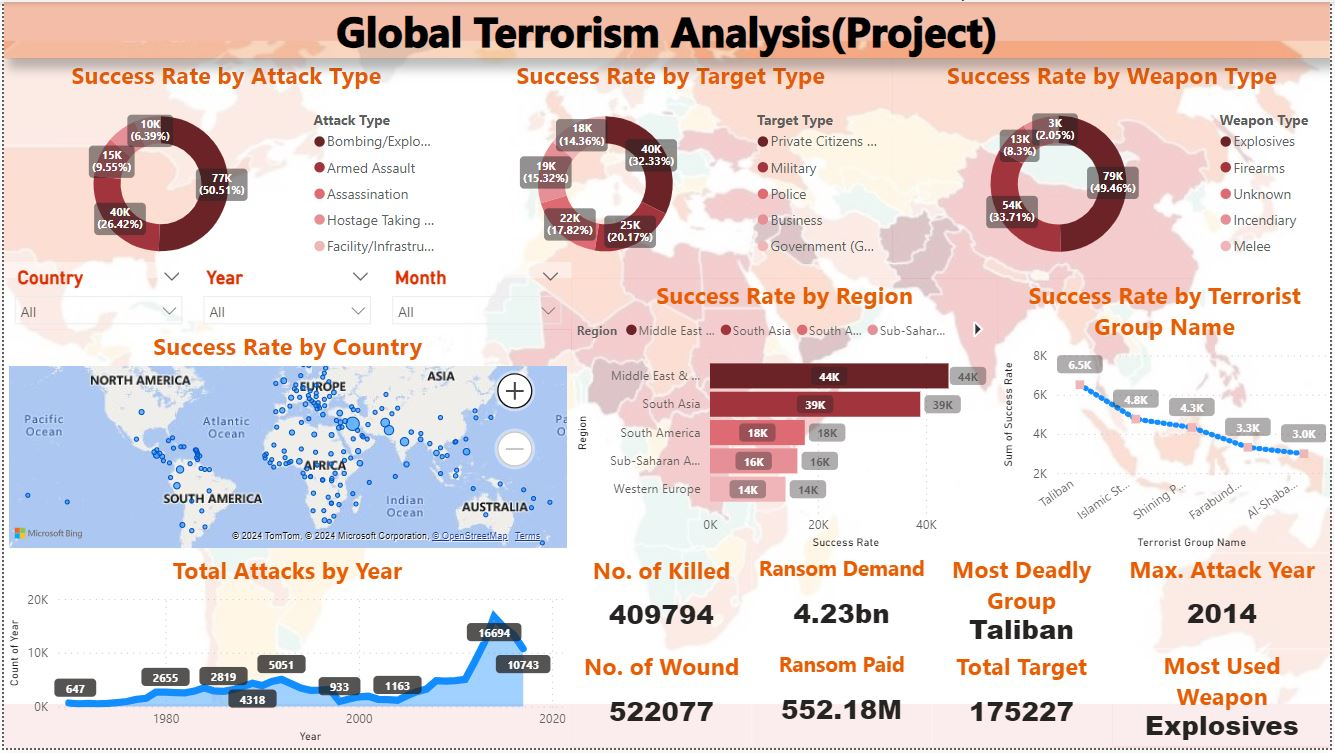

This screenshot's page, from the dashboard's own definition file:
{"tool":"powerbi","page":{"name":"Page 1","canvas":[1280,720],"ordinal":0},"visuals":[{"type":"donutChart","fields":{"Category":["Final Global Terrorism Data.Attack Type"],"Y":["Sum(Final Global Terrorism Data.Success Rate)"]},"box":[0,54.3,429.3,212.3],"z":0},{"type":"donutChart","fields":{"Y":["Sum(Final Global Terrorism Data.Success Rate)"],"Category":["Final Global Terrorism Data.Target Type"]},"box":[429.3,54.3,428.1,212.3],"z":1000},{"type":"donutChart","fields":{"Y":["Sum(Final Global Terrorism Data.Success Rate)"],"Category":["Final Global Terrorism Data.Weapon Type"]},"box":[857.5,54.3,423.3,212.3],"z":2000},{"type":"map","title":" Success Rate by Country","fields":{"Category":["Final Global Terrorism Data.Country"],"Size":["Sum(Final Global Terrorism Data.Success Rate)"]},"box":[0,316,547.5,215.9],"z":3000},{"type":"barChart","title":"Success Rate by Region","fields":{"Category":["Final Global Terrorism Data.Region"],"Y":["Sum(Final Global Terrorism Data.Success Rate)"],"Series":["Final Global Terrorism Data.Region"]},"box":[547,266,411.3,266],"z":4000},{"type":"lineChart","title":"Success Rate by Terrorist Group Name","fields":{"Category":["Final Global Terrorism Data.Terrorist Group Name"],"Y":["Sum(Final Global Terrorism Data.Success Rate)"]},"box":[958.4,266,322.2,266],"z":5000},{"type":"areaChart","title":"Total Attacks by Year","fields":{"Category":["Final Global Terrorism Data.Year"],"Y":["CountNonNull(Final Global Terrorism Data.Year)"]},"box":[0,532,547,187.8],"z":6000},{"type":"slicer","fields":{"Values":["Final Global Terrorism Data.Country"]},"box":[0,250.9,182.1,65.1],"z":7000},{"type":"slicer","fields":{"Values":["Final Global Terrorism Data.Year"]},"box":[182.1,250.9,182.1,65.1],"z":8000},{"type":"slicer","fields":{"Values":["Final Global Terrorism Data.Month"]},"box":[364.2,250.9,183.3,65.1],"z":9000},{"type":"card","title":"No. of Killed","fields":{"Values":["Sum(Final Global Terrorism Data.Number of killed)"]},"box":[547,532,174.1,93.2],"z":10000},{"type":"card","title":"No. of Wound","fields":{"Values":["Sum(Final Global Terrorism Data.Number of Wound)"]},"box":[547,625.2,174.1,94.6],"z":11000},{"type":"card","title":"Ransom Demand","fields":{"Values":["Sum(Final Global Terrorism Data.Ransom Amount Demand)"]},"box":[721.2,532,174.1,94.6],"z":12000},{"type":"card","title":"Most Deadly Group","fields":{"Values":["Min(Final Global Terrorism Data.Terrorist Group Name)"]},"box":[895.3,530.6,174.1,94.6],"z":13000},{"type":"card","title":"Ransom Paid","fields":{"Values":["Sum(Final Global Terrorism Data.Ransom Amount Paid)"]},"box":[721.2,625.2,174.1,94.6],"z":14000},{"type":"card","title":"Total Target","fields":{"Values":["CountNonNull(Final Global Terrorism Data.Target Type)"]},"box":[895.3,625.2,174.1,94.6],"z":15000},{"type":"card","title":"Max. Attack Year","fields":{"Values":["Max(Final Global Terrorism Data.Year)"]},"box":[1069.4,530.6,211.1,94.6],"z":16000},{"type":"card","title":"Most Used Weapon","fields":{"Values":["Min(Final Global Terrorism Data.Weapon Type)"]},"box":[1069.4,623.8,211.1,94.6],"z":17000},{"type":"shape","title":"Global Terrorism Analysis(Project)","box":[0,0,1279.6,54.3],"z":18000}]}

Visuals, with their boxes in screenshot pixels (x1, y1, x2, y2), scaled from the page's 1280x720 canvas onto the 1335x753 screenshot:
donutChart - Final Global Terrorism Data.Attack Type x Sum(Final Global Terrorism Data.Success Rate): 0:57:448:279
donutChart - Sum(Final Global Terrorism Data.Success Rate) x Final Global Terrorism Data.Target Type: 448:57:894:279
donutChart - Sum(Final Global Terrorism Data.Success Rate) x Final Global Terrorism Data.Weapon Type: 894:57:1334:279
" Success Rate by Country" map: 0:330:571:556
"Success Rate by Region" barChart: 571:278:999:556
"Success Rate by Terrorist Group Name" lineChart: 1000:278:1334:556
"Total Attacks by Year" areaChart: 0:556:571:752
slicer - Final Global Terrorism Data.Country: 0:262:190:330
slicer - Final Global Terrorism Data.Year: 190:262:380:330
slicer - Final Global Terrorism Data.Month: 380:262:571:330
"No. of Killed" card: 571:556:752:654
"No. of Wound" card: 571:654:752:752
"Ransom Demand" card: 752:556:934:655
"Most Deadly Group" card: 934:555:1115:654
"Ransom Paid" card: 752:654:934:752
"Total Target" card: 934:654:1115:752
"Max. Attack Year" card: 1115:555:1334:654
"Most Used Weapon" card: 1115:652:1334:751
"Global Terrorism Analysis(Project)" shape: 0:0:1334:57
